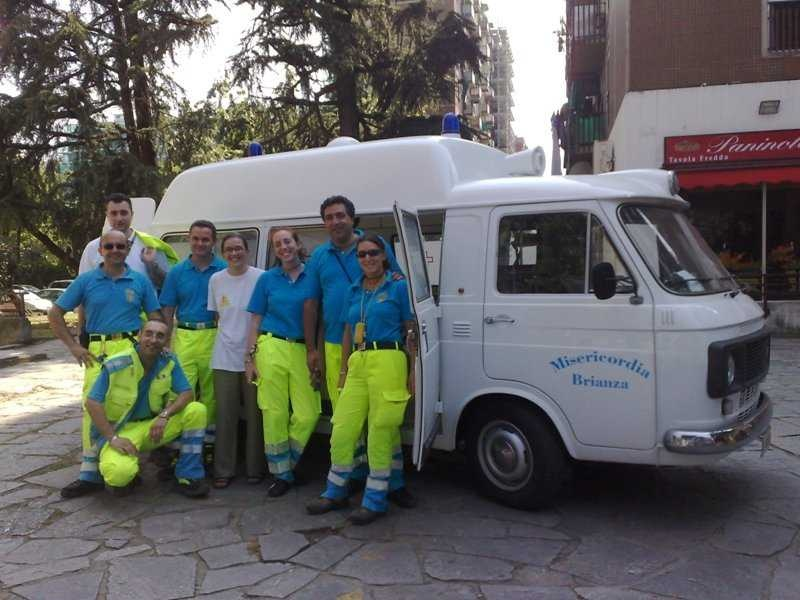Police Van: (93, 139, 786, 506)
